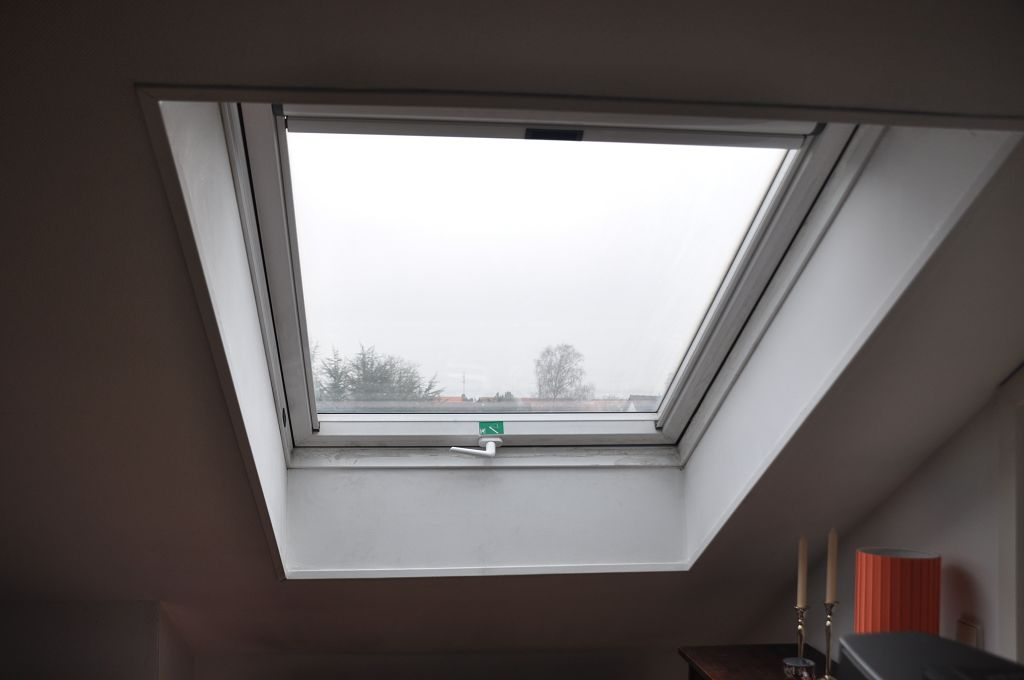windows: (244, 100, 719, 481)
